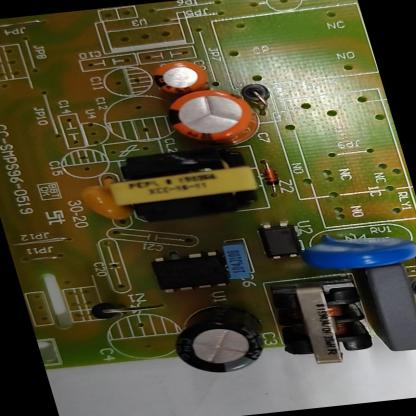Cap1: (160, 86, 260, 146)
Cap2: (149, 59, 211, 96)
Cap3: (164, 300, 270, 378)
MOSFET: (148, 250, 231, 292)
Mov: (299, 228, 416, 274)
Transformer: (106, 144, 263, 223), (265, 280, 380, 368)
